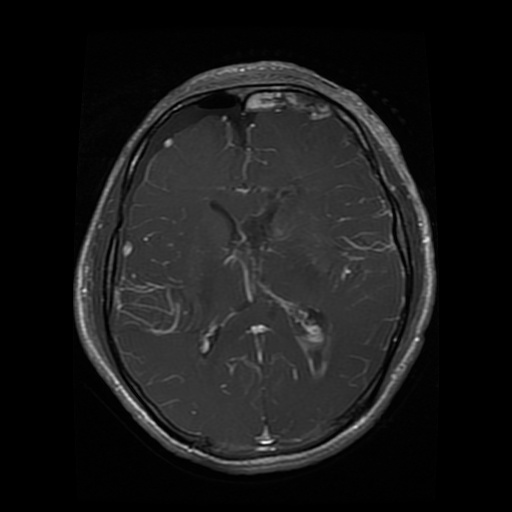glioma: (188, 182, 319, 328)
